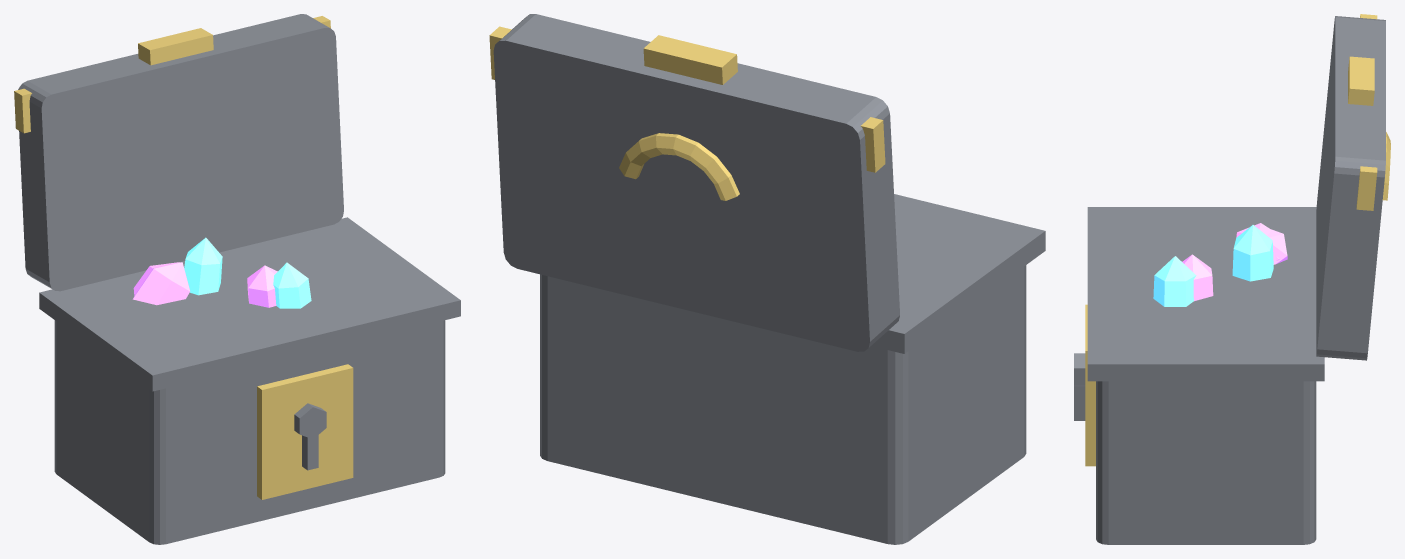
Rendered from pickups-and-collectibles-lockbox-open-ab4e60ed__19953.glb.
3 views of the same model, side by side, from view 1: azimuth 30°, elevation 25°; view 2: azimuth 150°, elevation 25°; view 3: azimuth 270°, elevation 25° (orthographic). The views are drawn at different scales.
Parts seen in each view (by area): view 1: body/iron, lid/iron, body/gold, body/gem, body/arcane, lid/gold; view 2: body/iron, lid/iron, lid/gold; view 3: body/iron, lid/iron, body/gem, lid/gold, body/arcane, body/gold.
Boxes of the visible parts, x1,y1,x2,y2 form: body/iron: [39, 217, 460, 544]; lid/iron: [18, 14, 343, 291]; body/gold: [257, 364, 353, 499]; body/gem: [184, 237, 311, 308]; body/arcane: [132, 262, 277, 307]; lid/gold: [14, 16, 330, 133]; body/iron: [540, 194, 1045, 544]; lid/iron: [493, 14, 899, 351]; lid/gold: [489, 26, 885, 200]; body/iron: [1074, 207, 1324, 544]; lid/iron: [1316, 16, 1385, 360]; body/gem: [1153, 225, 1273, 306]; lid/gold: [1348, 14, 1390, 210]; body/arcane: [1182, 223, 1287, 301]; body/gold: [1085, 304, 1095, 466].
Size of the model in its own units: 0.44 by 0.5176 by 0.3743.
